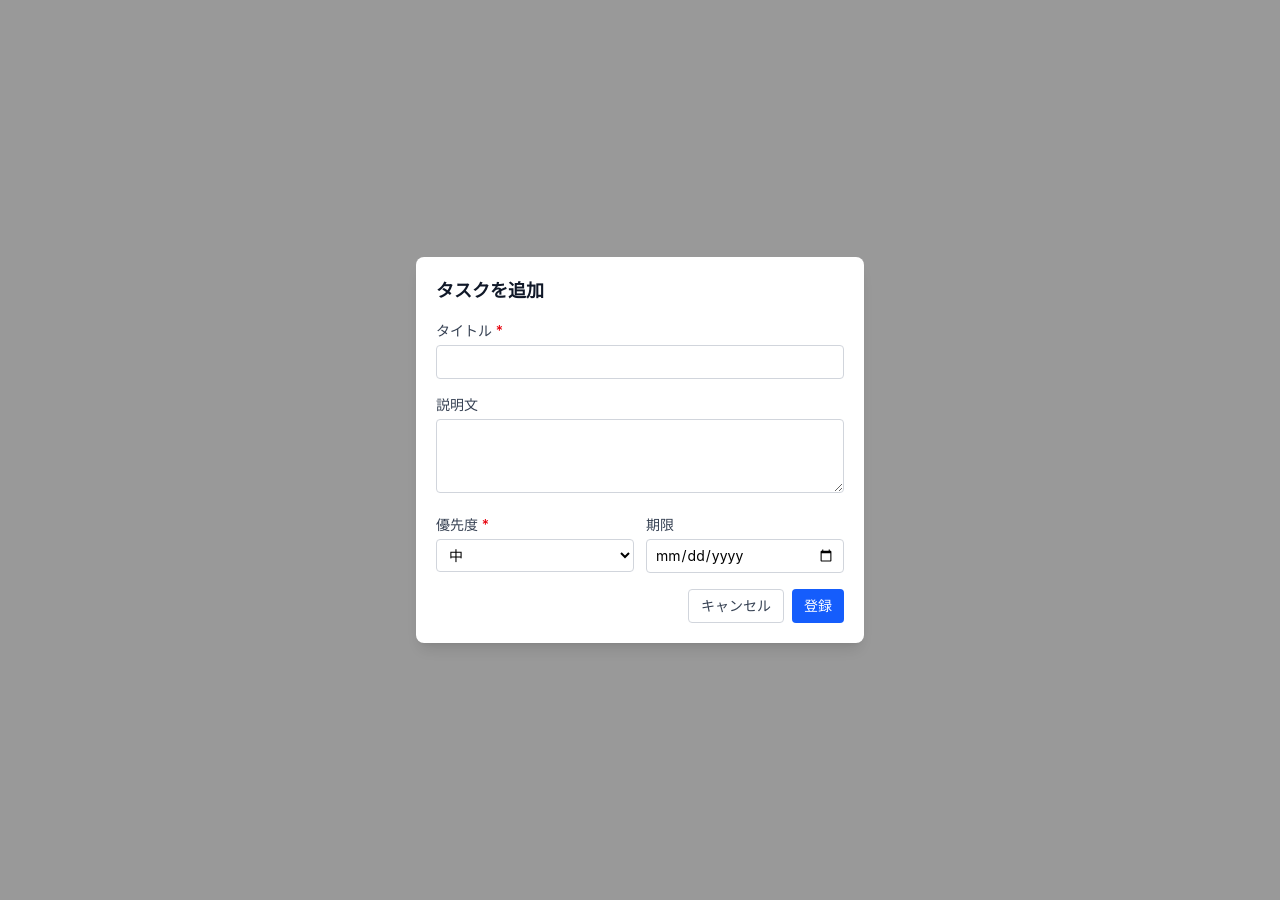
Test: TaskFormModal › shows the API error message and stays open when saving fails
Type "x" into the field labelled "タイトル *".
click(640, 362); type("x")  # box [436,345,844,379]
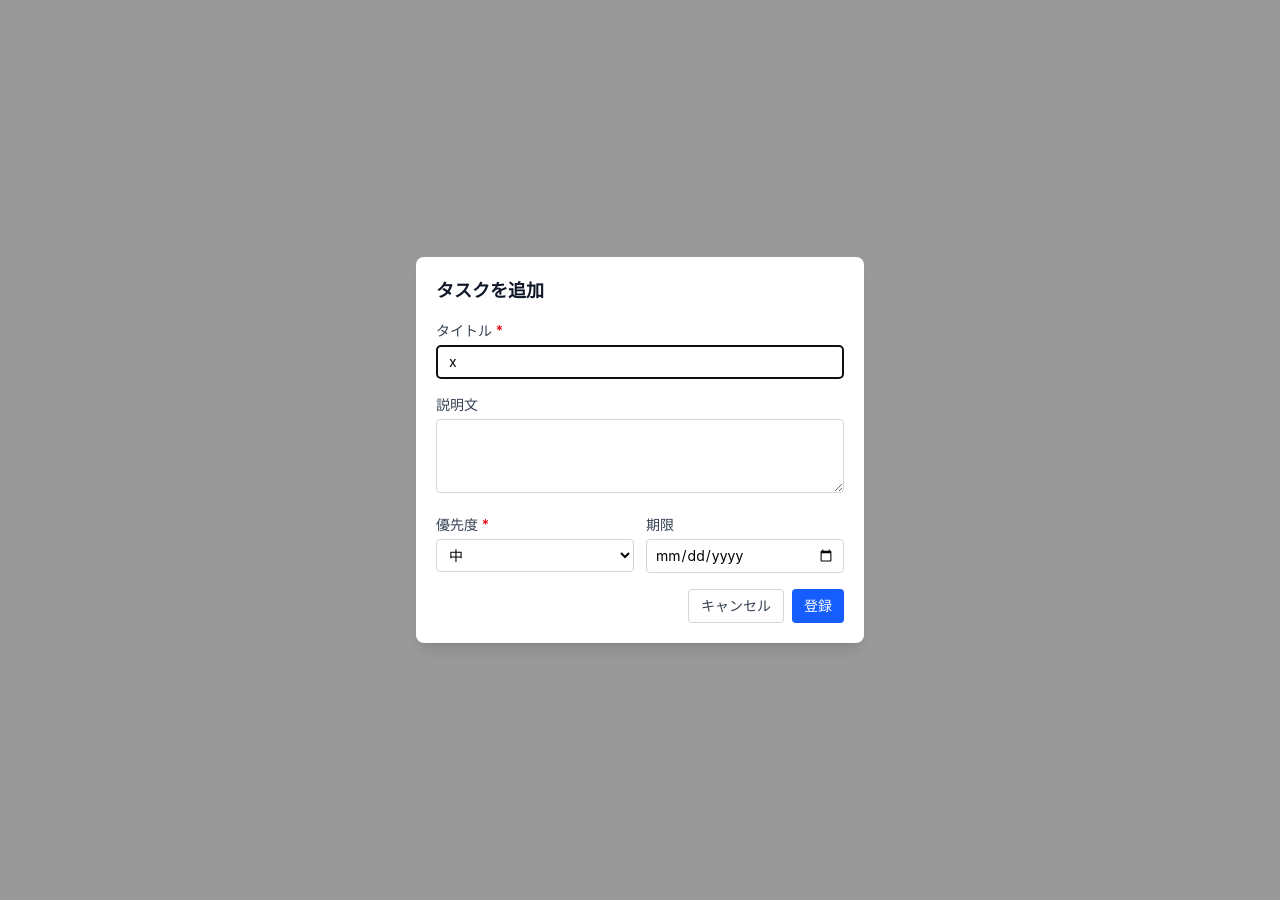
Click the button "登録".
click(818, 606)  # box [792,589,844,623]
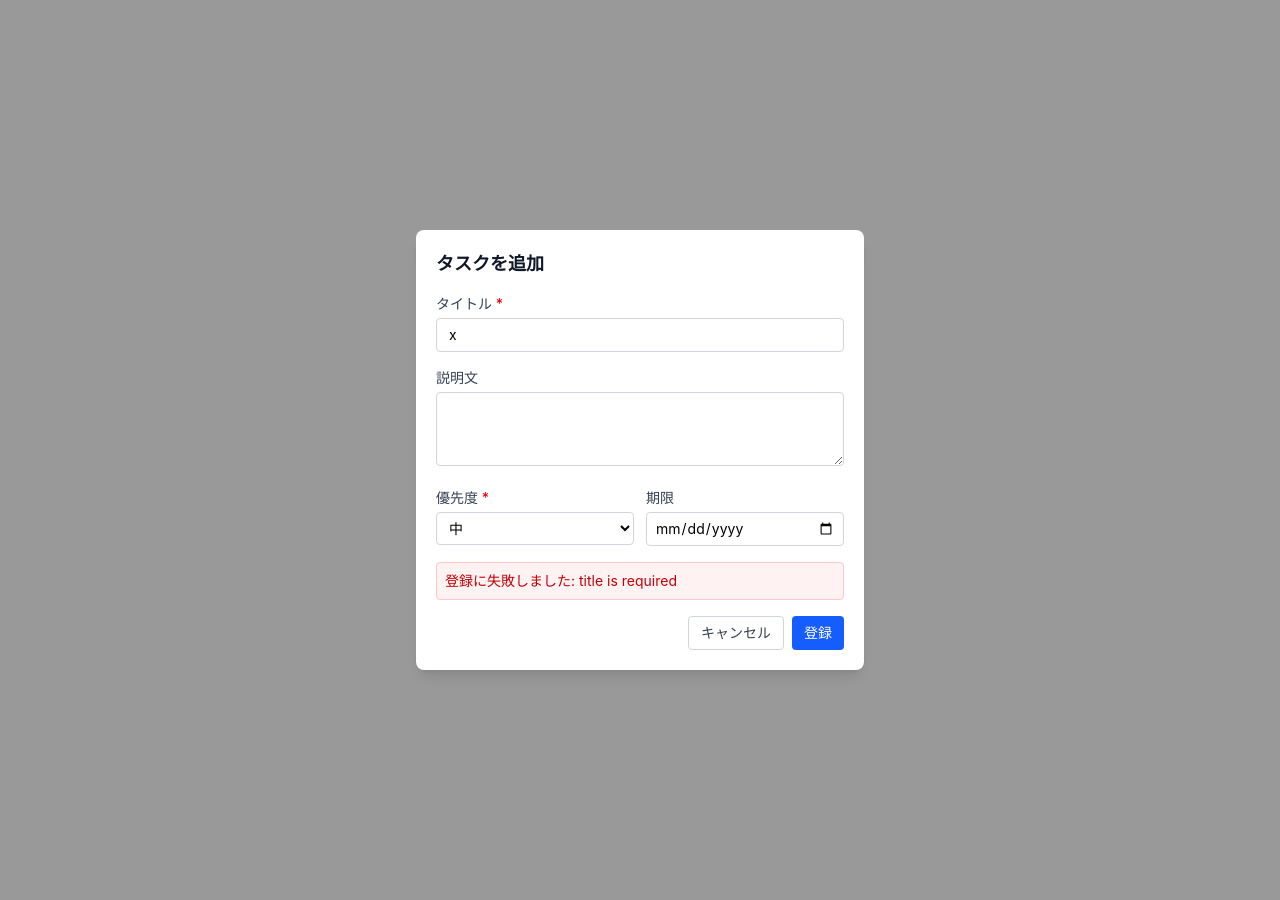
expect the text "title is required" is shown: met, box [579,572,677,589]
